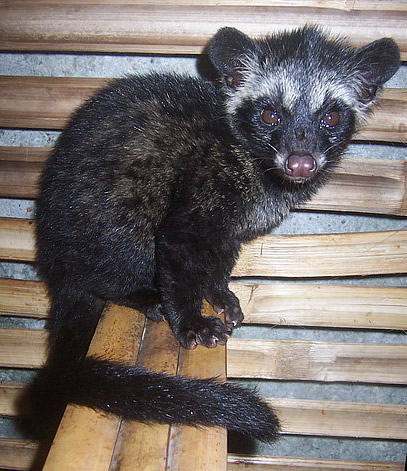Civet: (16, 11, 405, 451)
